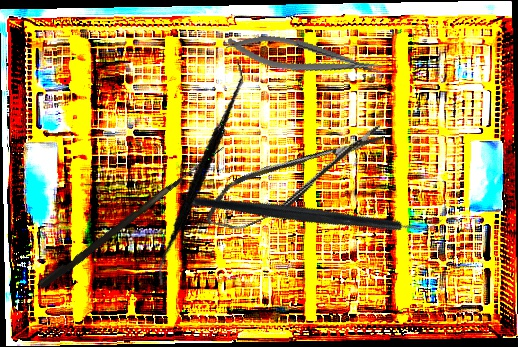Chopper: (190, 110, 445, 312)
Hook Surgical: (37, 138, 225, 293)
Micro Scissor: (196, 114, 395, 242)
Needle Holder: (224, 25, 385, 90)
Spatula Surgical: (123, 58, 276, 286)
